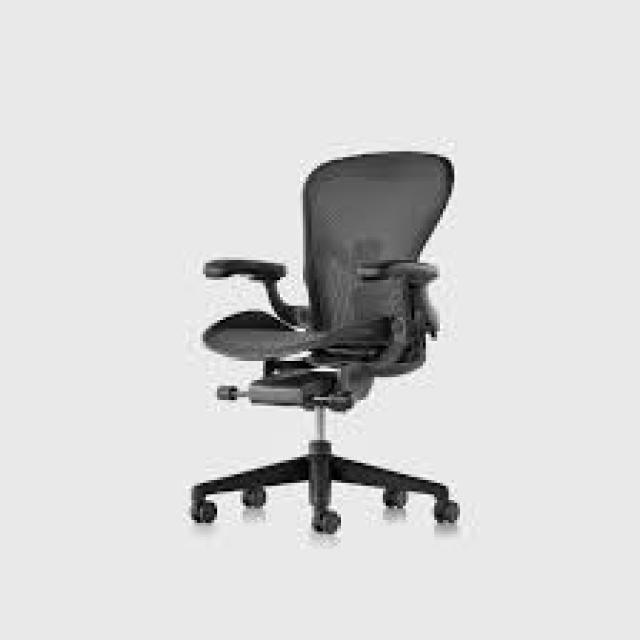chair: (85, 92, 532, 636)
